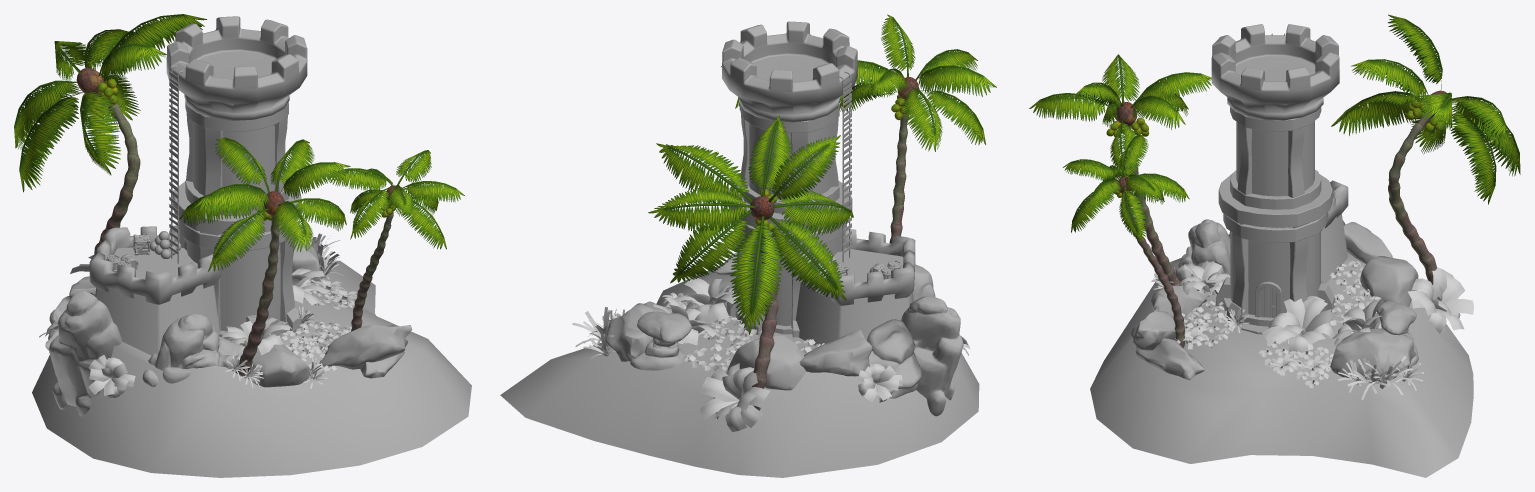
Rendered from island.fbx.
3 views of the same model, side by side, from view 1: azimuth 30°, elevation 25°; view 2: azimuth 150°, elevation 25°; view 3: azimuth 270°, elevation 25° (orthographic). The views are drawn at different scales.
Parts seen in each view (by area): view 1: polySurface2, PalmTree5, PalmTree2, PalmTree4, Plant_Fern4, Plant_Fern5, Plant_Fern; view 2: polySurface2, PalmTree5, PalmTree2, Plant_Fern2, Plant_Fern, Plant_Fern3, Plant_Fern1, Plant_Monstera19, Plant_Misc10, Plant_Monstera17; view 3: polySurface2, PalmTree5, PalmTree2, PalmTree4, Plant_Fern, Plant_Fern2, Plant_Fern1, Plant_Fern5, Plant_Misc10, Plant_Monstera11, Plant_Misc9.
Part boxes in pixels (bbox=[...]): polySurface2: bbox=[32, 16, 471, 477]; PalmTree5: bbox=[14, 14, 206, 254]; PalmTree2: bbox=[179, 137, 350, 377]; PalmTree4: bbox=[325, 150, 464, 331]; Plant_Fern4: bbox=[88, 355, 135, 398]; Plant_Fern5: bbox=[222, 317, 290, 355]; Plant_Fern: bbox=[292, 268, 328, 305]; polySurface2: bbox=[500, 21, 979, 477]; PalmTree5: bbox=[648, 115, 853, 410]; PalmTree2: bbox=[839, 14, 996, 243]; Plant_Fern2: bbox=[700, 363, 769, 431]; Plant_Fern: bbox=[675, 278, 740, 324]; Plant_Fern3: bbox=[857, 363, 902, 402]; Plant_Fern1: bbox=[652, 297, 722, 345]; Plant_Monstera19: bbox=[682, 343, 736, 371]; Plant_Misc10: bbox=[572, 307, 614, 346]; Plant_Monstera17: bbox=[703, 315, 748, 343]; polySurface2: bbox=[1090, 24, 1473, 477]; PalmTree5: bbox=[1331, 14, 1520, 284]; PalmTree2: bbox=[1029, 54, 1211, 285]; PalmTree4: bbox=[1062, 134, 1189, 347]; Plant_Fern: bbox=[1262, 296, 1334, 352]; Plant_Fern2: bbox=[1408, 267, 1473, 335]; Plant_Fern1: bbox=[1331, 297, 1383, 346]; Plant_Fern5: bbox=[1178, 262, 1230, 298]; Plant_Misc10: bbox=[1365, 354, 1412, 395]; Plant_Monstera11: bbox=[1294, 346, 1333, 388]; Plant_Misc9: bbox=[1347, 358, 1396, 399].
Size of the model in its own units: 1297 by 1123 by 1484.
